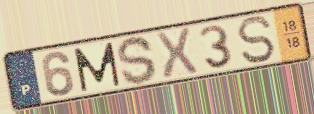3: (198, 24, 235, 70)
6: (40, 50, 75, 98)
M: (71, 40, 122, 94)
S: (234, 14, 278, 66), (115, 35, 159, 86)
X: (153, 26, 201, 82)
